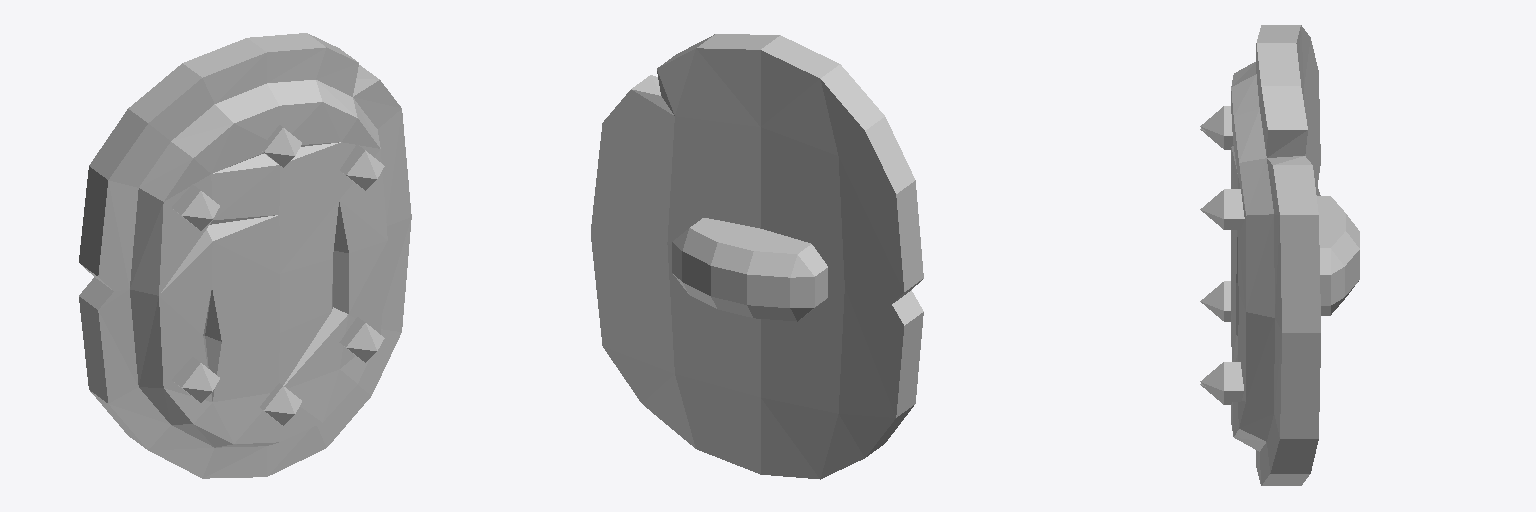
The model's file is Skeleton_Shield_Large_B.obj.
3 views of the same model, side by side, from view 1: azimuth 30°, elevation 25°; view 2: azimuth 150°, elevation 25°; view 3: azimuth 270°, elevation 25° (orthographic).
Parts seen in each view (by area): view 1: Skeleton_Shield_Large_B_Cylinder.003; view 2: Skeleton_Shield_Large_B_Cylinder.003; view 3: Skeleton_Shield_Large_B_Cylinder.003.
Part boxes in pixels (x1,y1,x2,y2): Skeleton_Shield_Large_B_Cylinder.003: (79,33,411,478); Skeleton_Shield_Large_B_Cylinder.003: (591,34,923,479); Skeleton_Shield_Large_B_Cylinder.003: (1200,25,1359,485).
Size of the model in its own units: 0.8771 by 1.14 by 0.387.